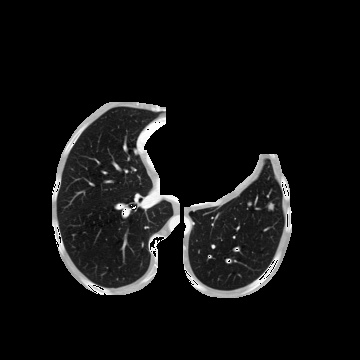PN: (267, 202, 275, 210)
